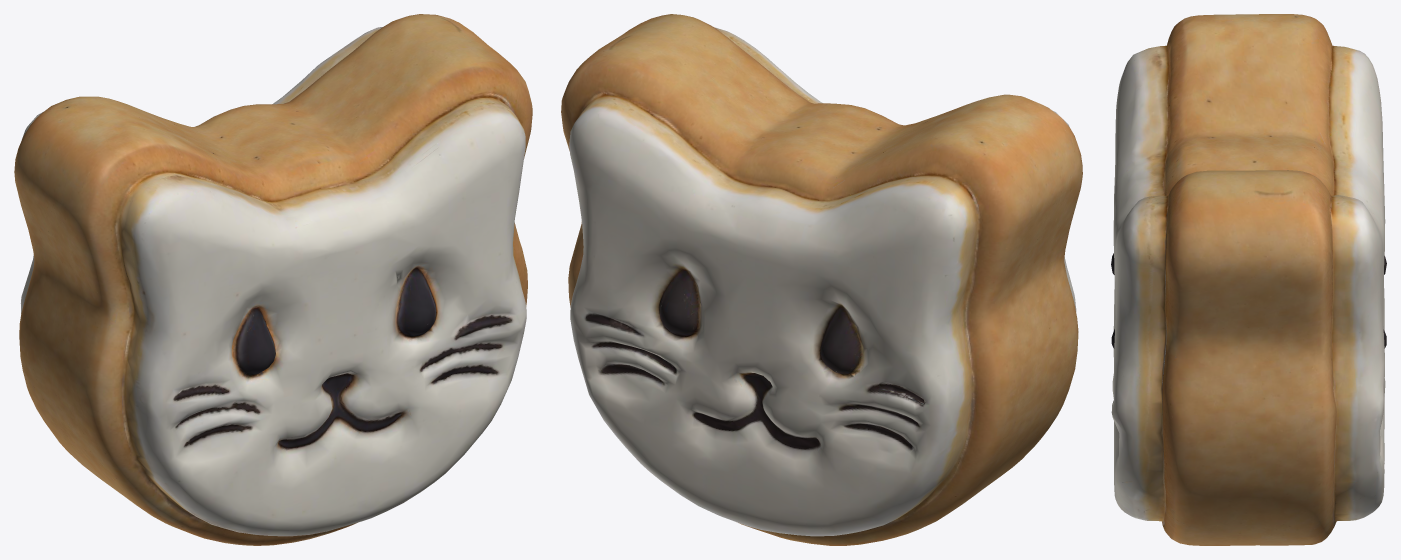
Rendered from CatTreat_0810183050_texture.fbx.
3 renders of one model, left to right at view 1: azimuth 30°, elevation 25°; view 2: azimuth 150°, elevation 25°; view 3: azimuth 270°, elevation 25°, orthographic. The views are drawn at different scales.
Visible parts, largest first — view 1: Mesh1.0; view 2: Mesh1.0; view 3: Mesh1.0.
Boxes of the visible parts, left/top/right/bottom form: Mesh1.0: left=14, top=14, right=532, bottom=545; Mesh1.0: left=561, top=14, right=1082, bottom=545; Mesh1.0: left=1111, top=14, right=1386, bottom=545.
Bounding box in the file's own units: 33 × 30 × 17.79.
1 material, 1 textured.
